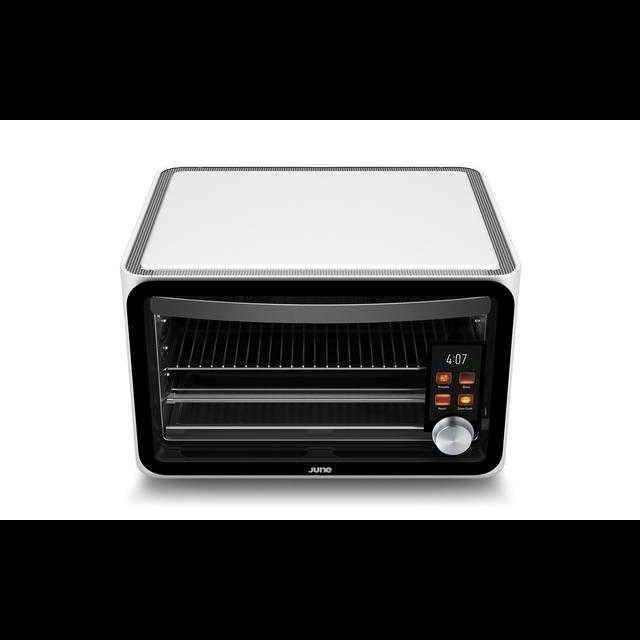Oven: (124, 252, 518, 482)
